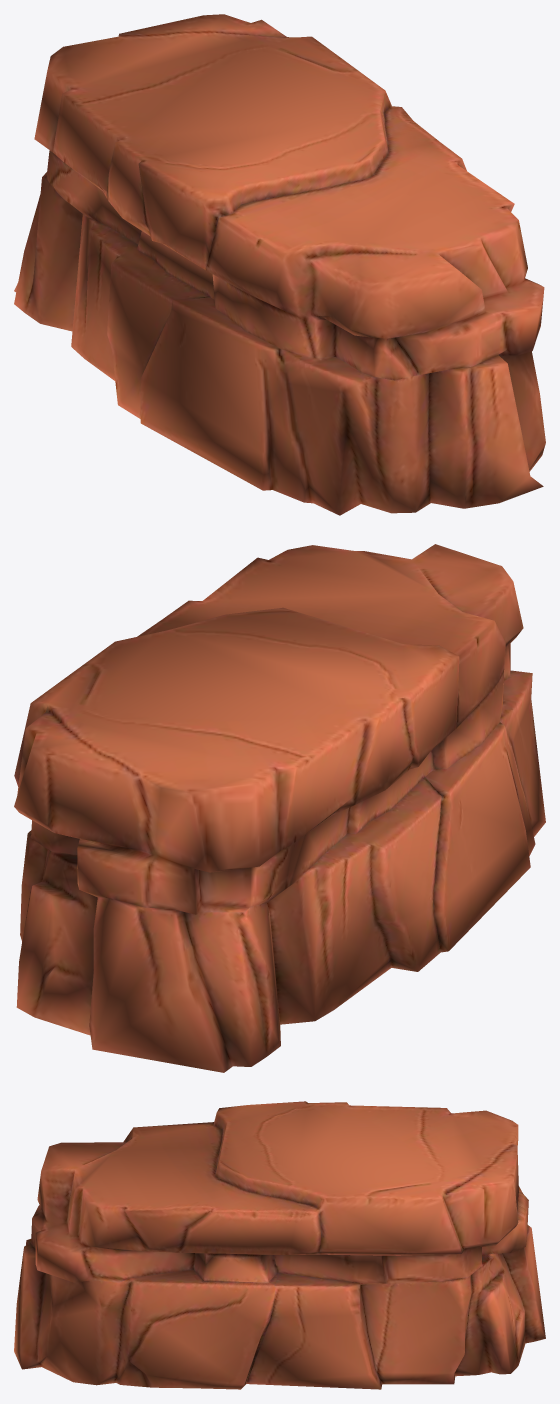
The model's file is gorge-cliff-0.glb.
3 renders of one model, top to bottom at view 1: azimuth 30°, elevation 25°; view 2: azimuth 150°, elevation 25°; view 3: azimuth 270°, elevation 25°, orthographic. The views are drawn at different scales.
Parts seen in each view (by area): view 1: GorgeCliff0; view 2: GorgeCliff0; view 3: GorgeCliff0.
Part boxes in pixels (<box>): GorgeCliff0: <box>14,14,545,515</box>; GorgeCliff0: <box>14,544,545,1072</box>; GorgeCliff0: <box>14,1101,545,1389</box>.
Bounding box in the file's own units: 2.44 × 1.96 × 5.
Materials: 1 (1 with a texture image).
